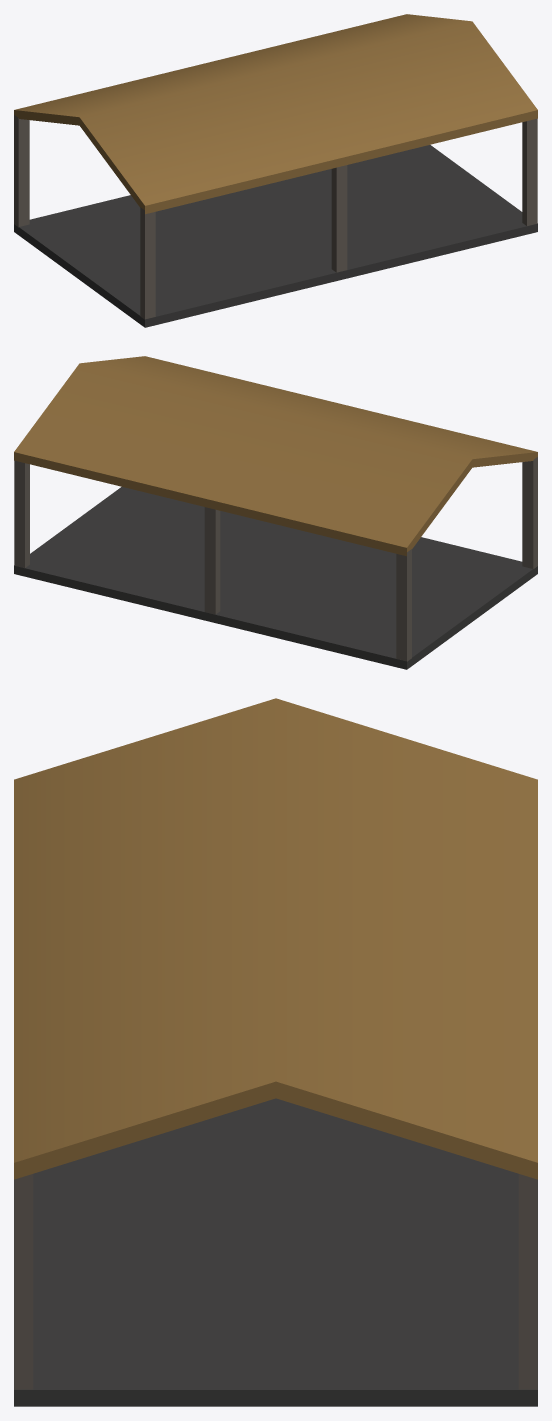
Rendered from HorizontalPavillion .fbx.
3 views of the same model, one above another, from view 1: azimuth 30°, elevation 25°; view 2: azimuth 150°, elevation 25°; view 3: azimuth 270°, elevation 25° (orthographic). The views are drawn at different scales.
Visible parts, largest first — view 1: polySurface1; view 2: polySurface1; view 3: polySurface1.
Part boxes in pixels (<box>): polySurface1: <box>14,14,537,327</box>; polySurface1: <box>14,356,537,669</box>; polySurface1: <box>14,698,537,1406</box>.
Bounding box in the file's own units: 13.89 × 5.5 × 8.03.
